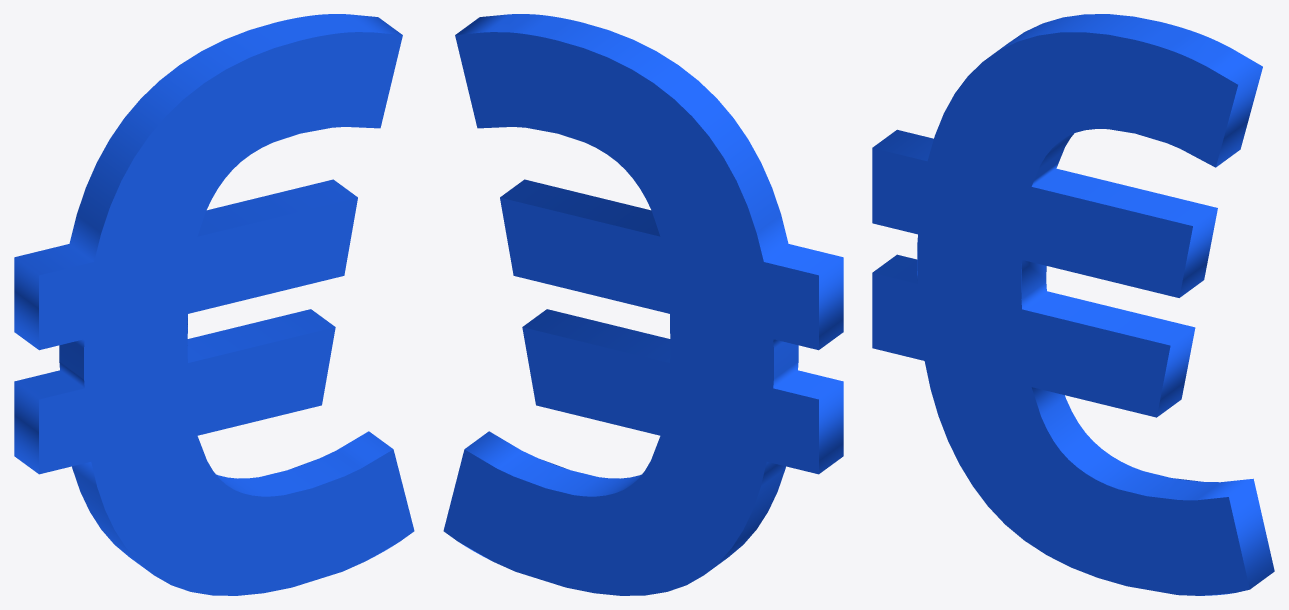
File: euro.glb
3 views of the same model, side by side, from view 1: azimuth 30°, elevation 25°; view 2: azimuth 150°, elevation 25°; view 3: azimuth 330°, elevation 25° (orthographic).
Parts seen in each view (by area): view 1: euro; view 2: euro; view 3: euro.
Part boxes in pixels (box(x1,y1,x2,y2)): euro: box(14, 14, 414, 595); euro: box(443, 14, 843, 595); euro: box(872, 14, 1274, 595).
Size of the model in its own units: 0.4387 by 0.6086 by 0.05.
